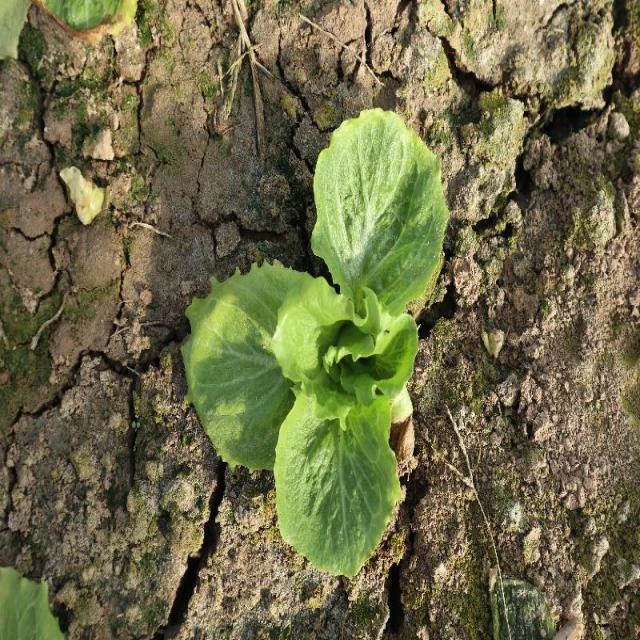crop: (179, 105, 450, 580)
